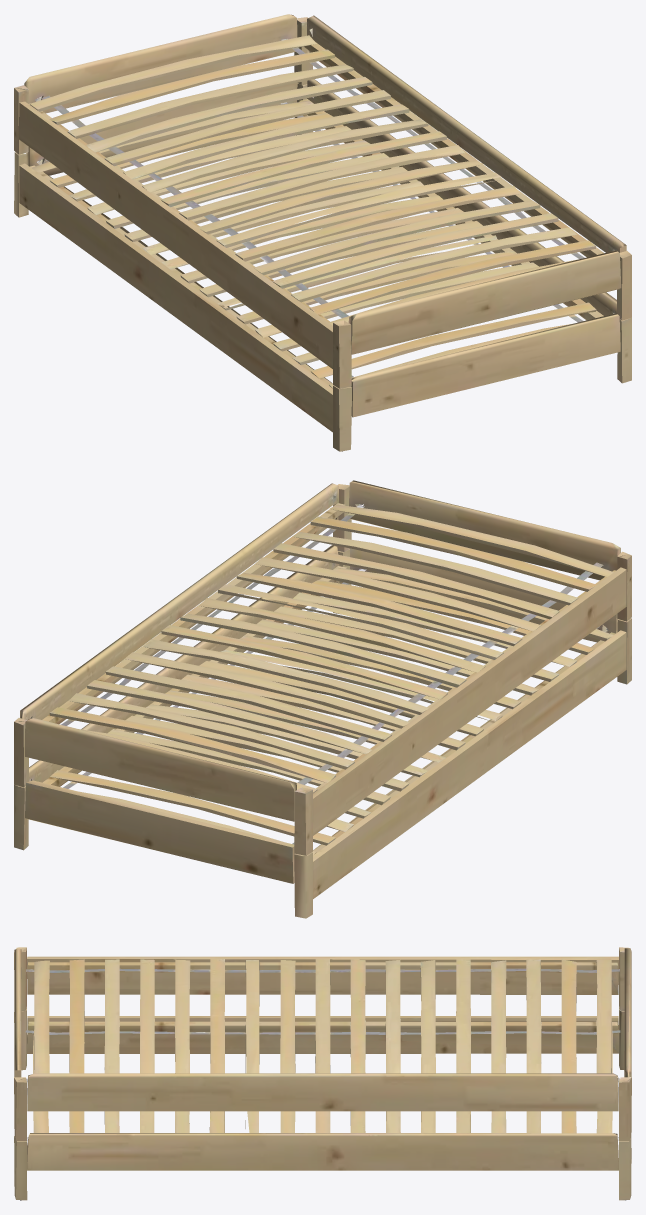
3 views of the same model, one above another, from view 1: azimuth 30°, elevation 25°; view 2: azimuth 150°, elevation 25°; view 3: azimuth 270°, elevation 25° (orthographic). The views are drawn at different scales.
Parts seen in each view (by area): view 1: geo1; view 2: geo1; view 3: geo1.
Part boxes in pixels (left/top/right/bottom): geo1: left=14, top=14, right=631, bottom=451; geo1: left=14, top=480, right=631, bottom=918; geo1: left=14, top=947, right=631, bottom=1200.
Bounding box in the file's own units: 0.9902 × 0.4339 × 1.91.
1 material, 1 textured.
